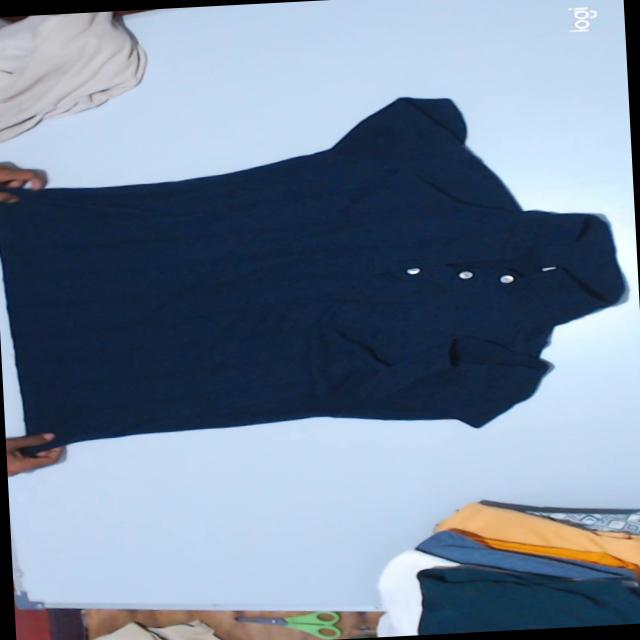new-garment: (0, 97, 623, 447)
